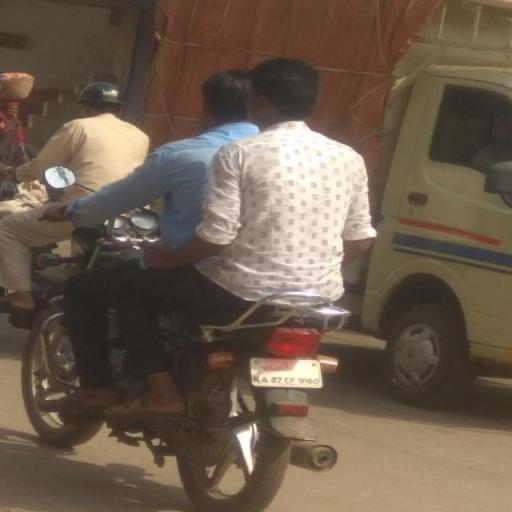bike: (18, 58, 386, 510)
numberplate: (249, 358, 321, 390)
withouthelmet: (250, 62, 316, 120), (204, 70, 246, 124)
